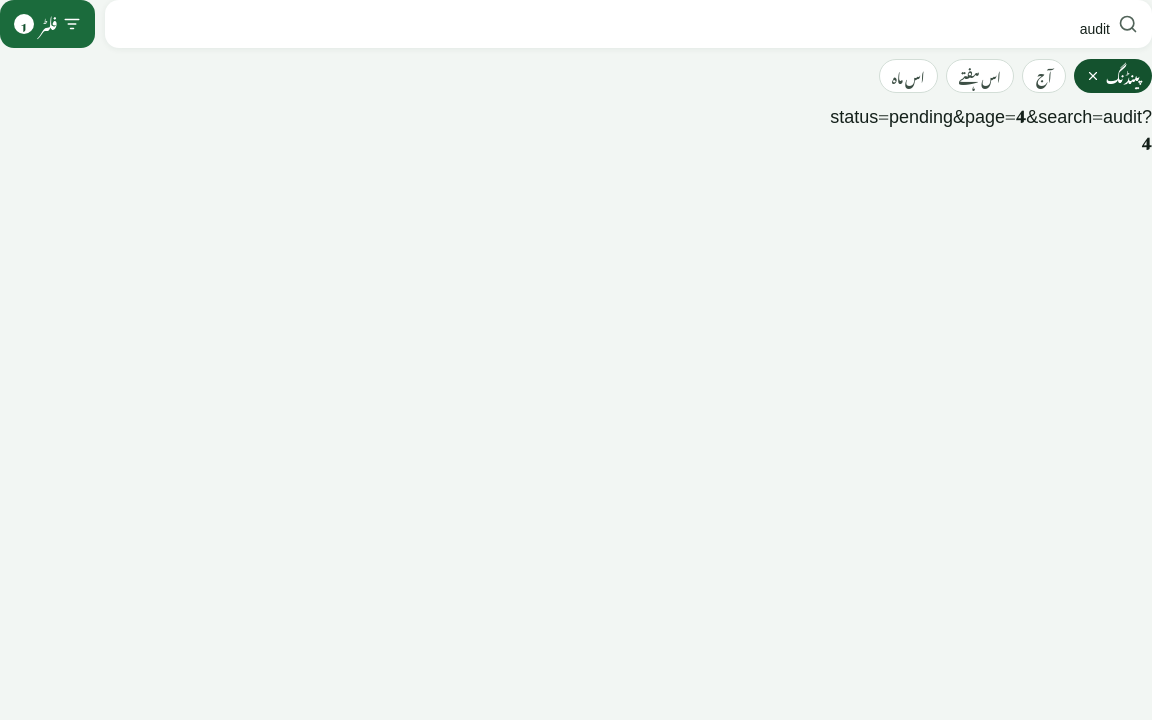
it: MobileFilterBar — search, the "فلٹر" button and the chip row › the "فلٹر" button › applying the sheet writes all its filters to the URL at once, resets the page and closes it
This screenshot has width=1152, height=720.
What coordinates should you click on to do the following:
click the button "فلٹر 1"
I would click on:
 (48, 24)
Its box is x1=0 y1=0 x2=95 y2=48.
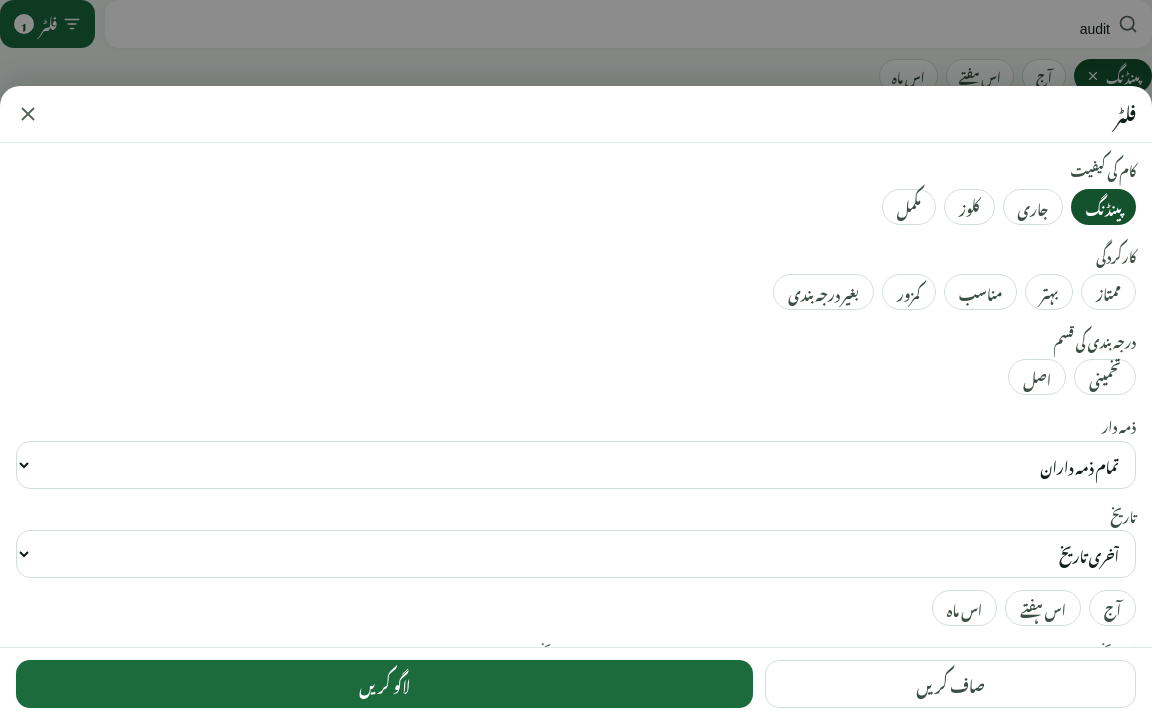
What coordinates should you click on to do the following:
click the button "کلوز"
I would click on:
 (969, 207)
Its box is x1=944 y1=185 x2=994 y2=229.
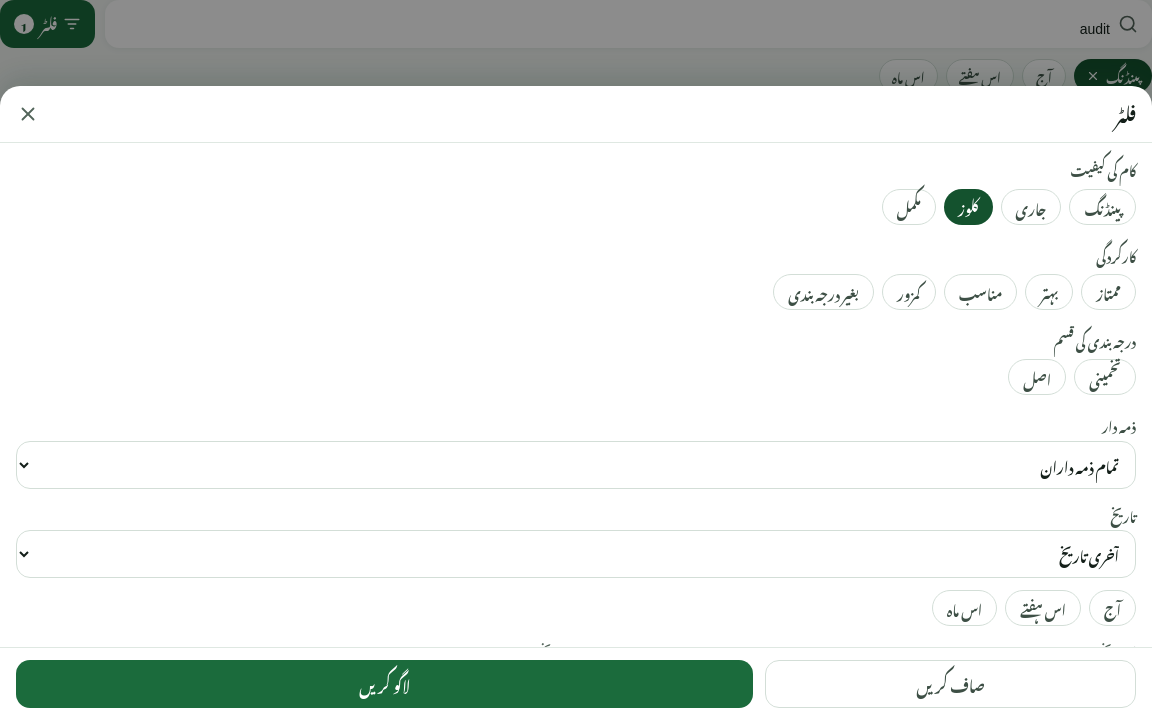
What coordinates should you click on to do the following:
click the button "بہتر"
I would click on:
 (1049, 292)
Its box is x1=1025 y1=270 x2=1073 y2=314.
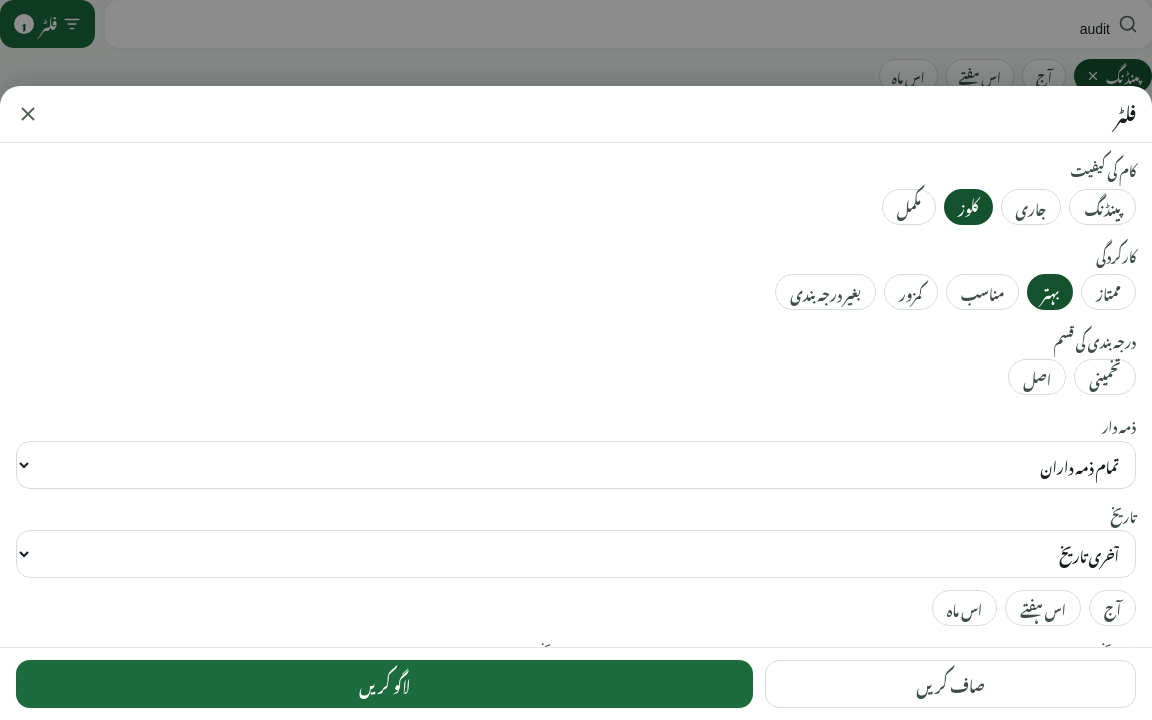
What coordinates should you click on to do the following:
click the button "اس ماہ"
I would click on:
 (965, 608)
Its box is x1=932 y1=586 x2=997 y2=630.
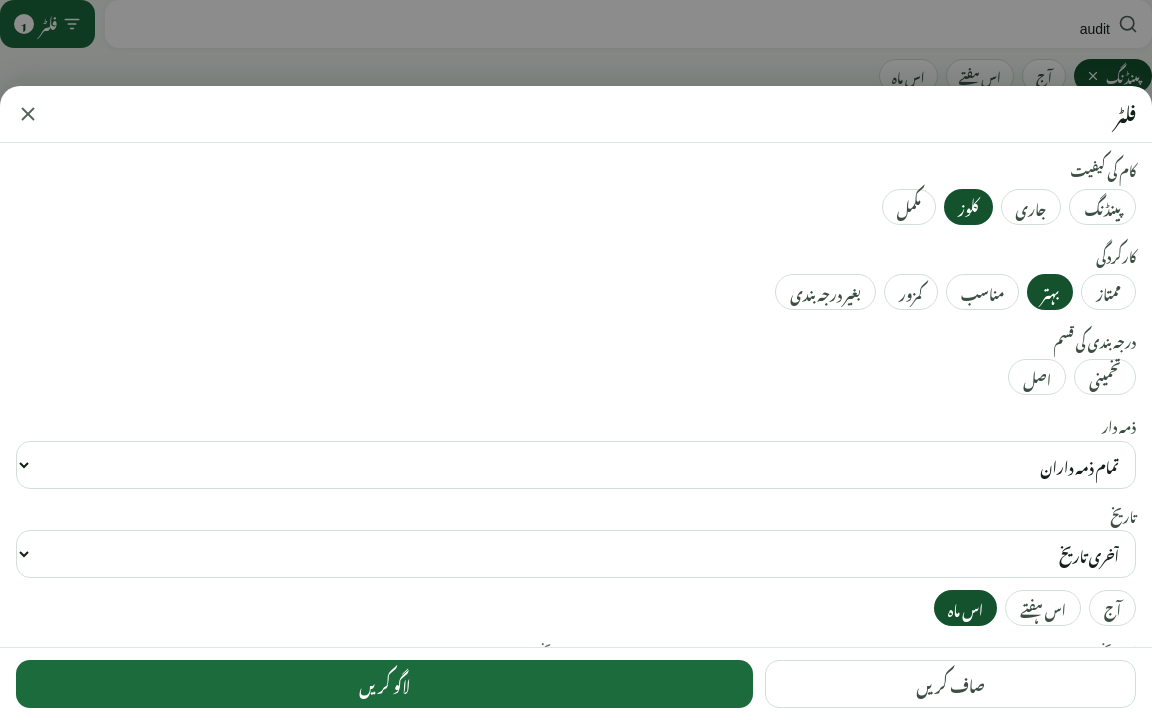
What coordinates should you click on to do the following:
click the button "لاگو کریں"
I would click on:
 (385, 684)
Its box is x1=16 y1=660 x2=753 y2=708.
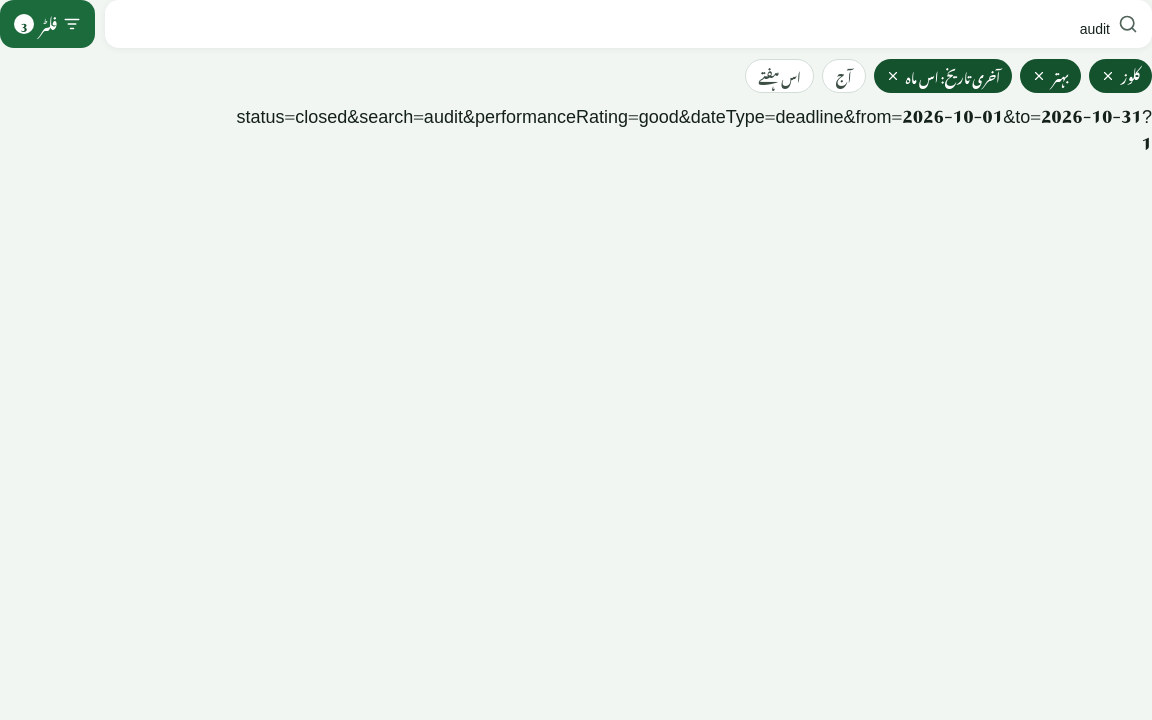
Expected: the text with test id "page" reads "1", x1=1142 y1=116 x2=1151 y2=161
Expected: the dialog is gone
